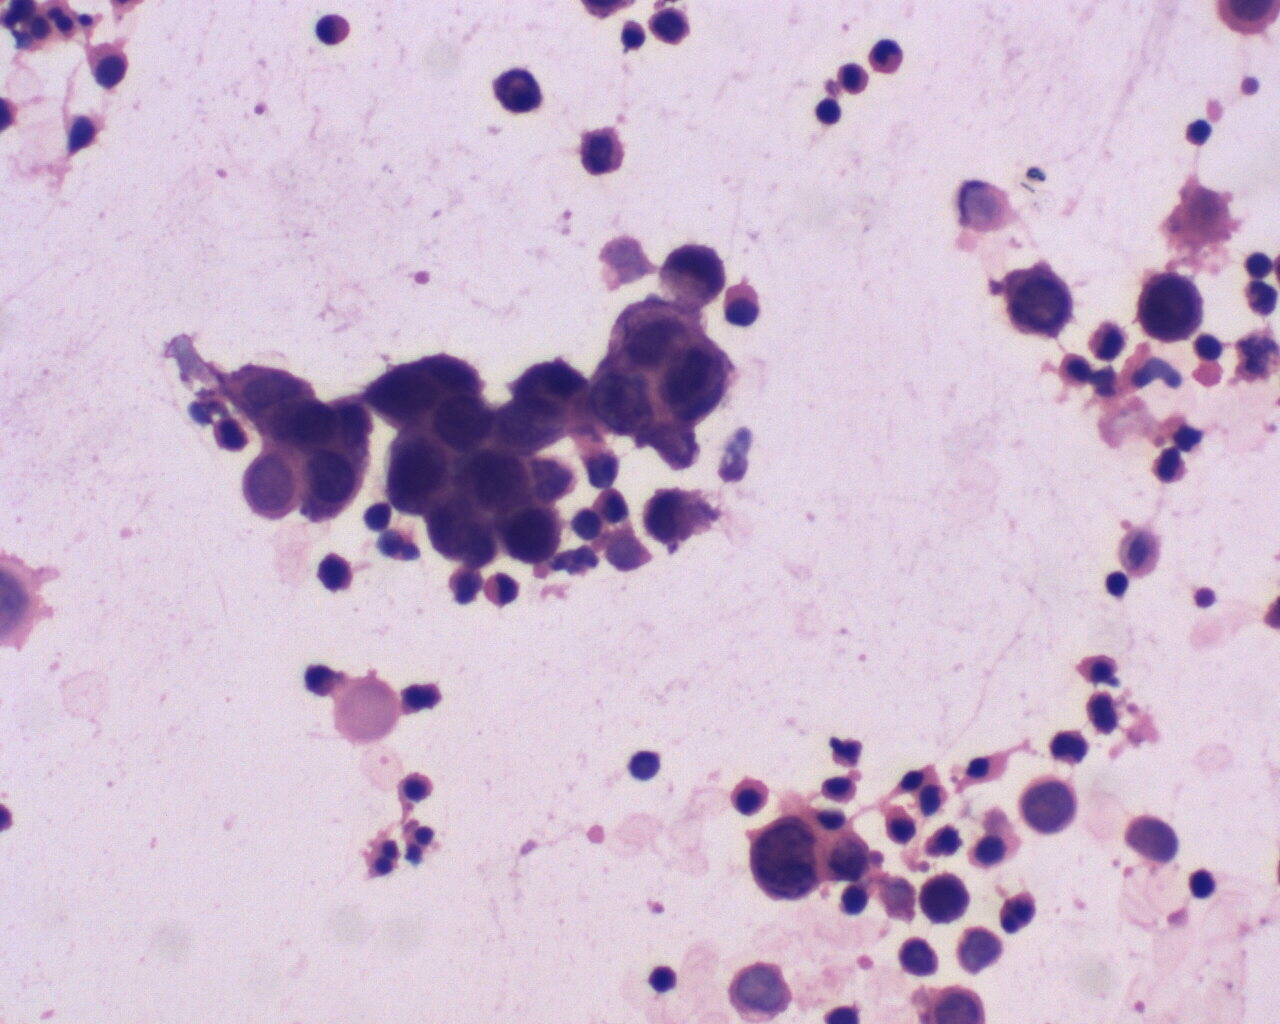ab: (583, 299, 730, 441), (746, 816, 824, 906), (993, 259, 1076, 338), (1130, 267, 1208, 347), (385, 430, 449, 518), (234, 449, 302, 527), (296, 451, 365, 526), (501, 501, 569, 566), (657, 243, 726, 306), (1018, 773, 1079, 838), (430, 394, 492, 453), (918, 869, 975, 929)
lymph: (623, 743, 669, 795), (1186, 861, 1225, 903), (644, 962, 686, 997), (1100, 566, 1138, 605), (811, 95, 850, 131), (1182, 114, 1216, 150)
